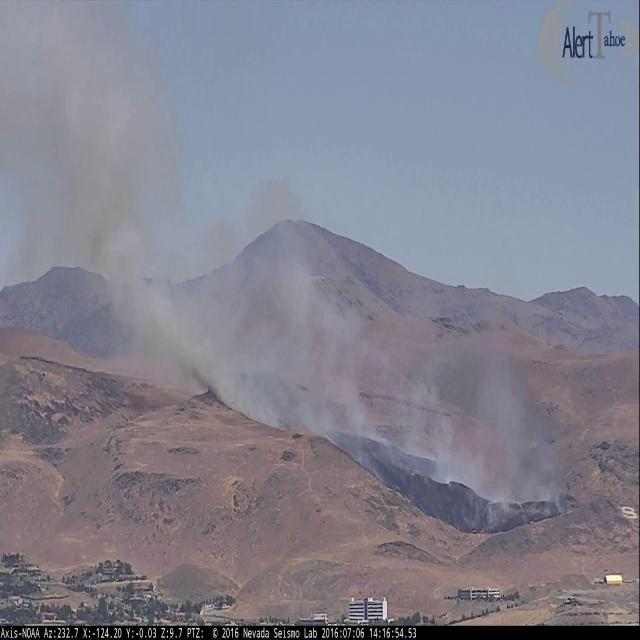smoke: (11, 0, 551, 542)
